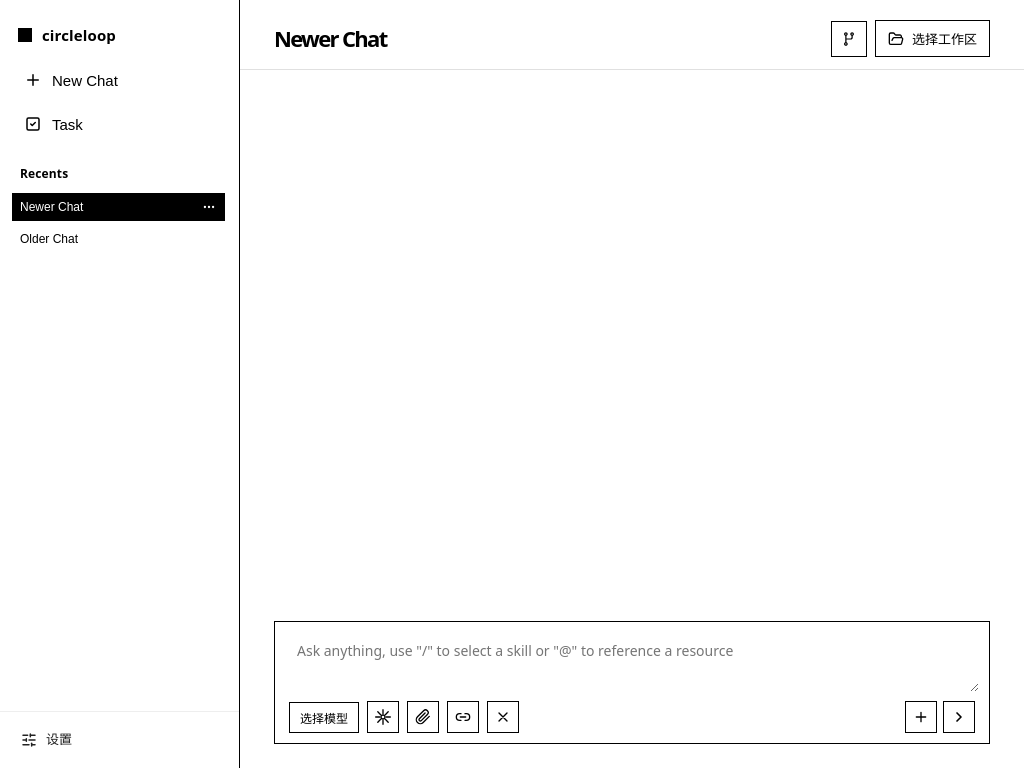
Test case: Mira UI › does not reorder unpinned sessions when simply selecting a session
Click the button "Older Chat" at [100, 239], box x1=12 y1=225 x2=189 y2=253
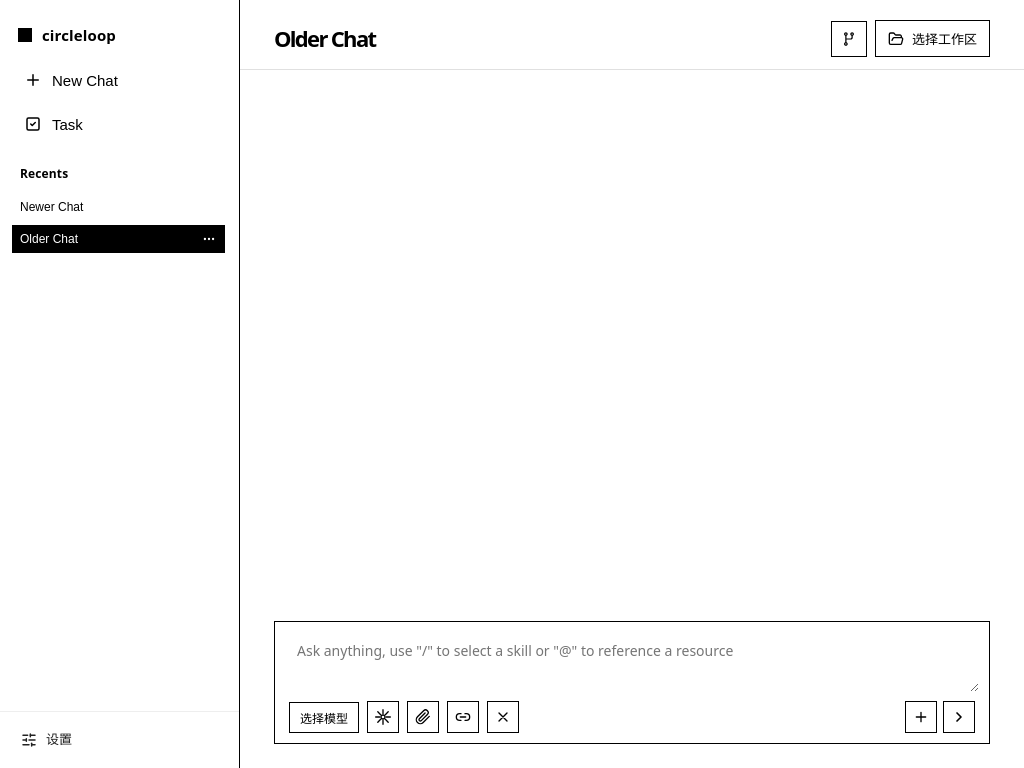
Check: the list item "Newer Chat" is shown, box x1=12 y1=193 x2=189 y2=221
Check: the heading "Older Chat" is shown, box x1=274 y1=25 x2=375 y2=52
